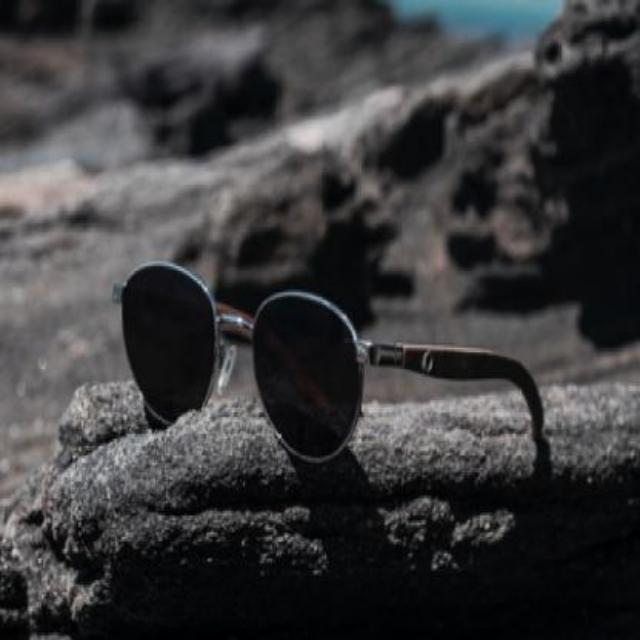glasses: (109, 259, 544, 463)
